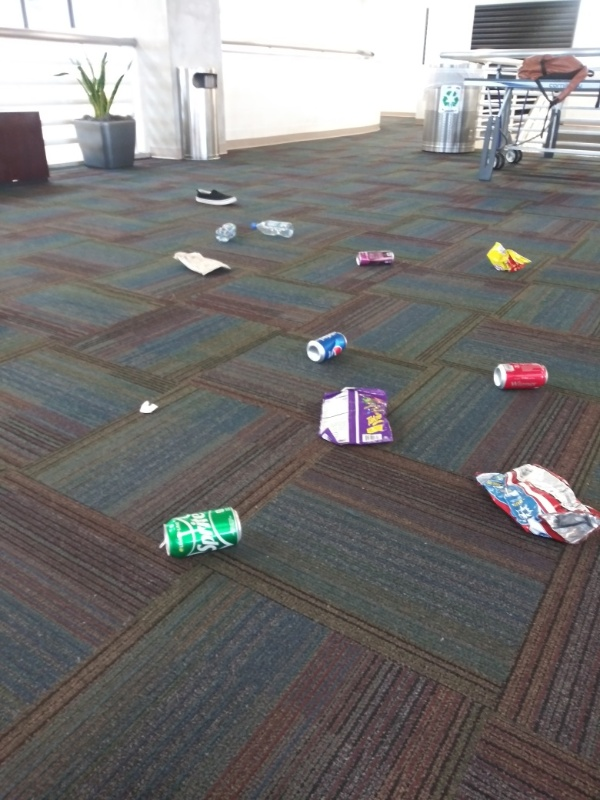bag: (469, 461, 600, 551), (313, 382, 396, 450), (169, 249, 234, 278), (483, 239, 532, 273)
bottle: (246, 216, 295, 242), (210, 217, 243, 245)
can: (154, 502, 245, 562), (486, 359, 552, 393), (300, 329, 351, 366), (351, 248, 399, 270)
